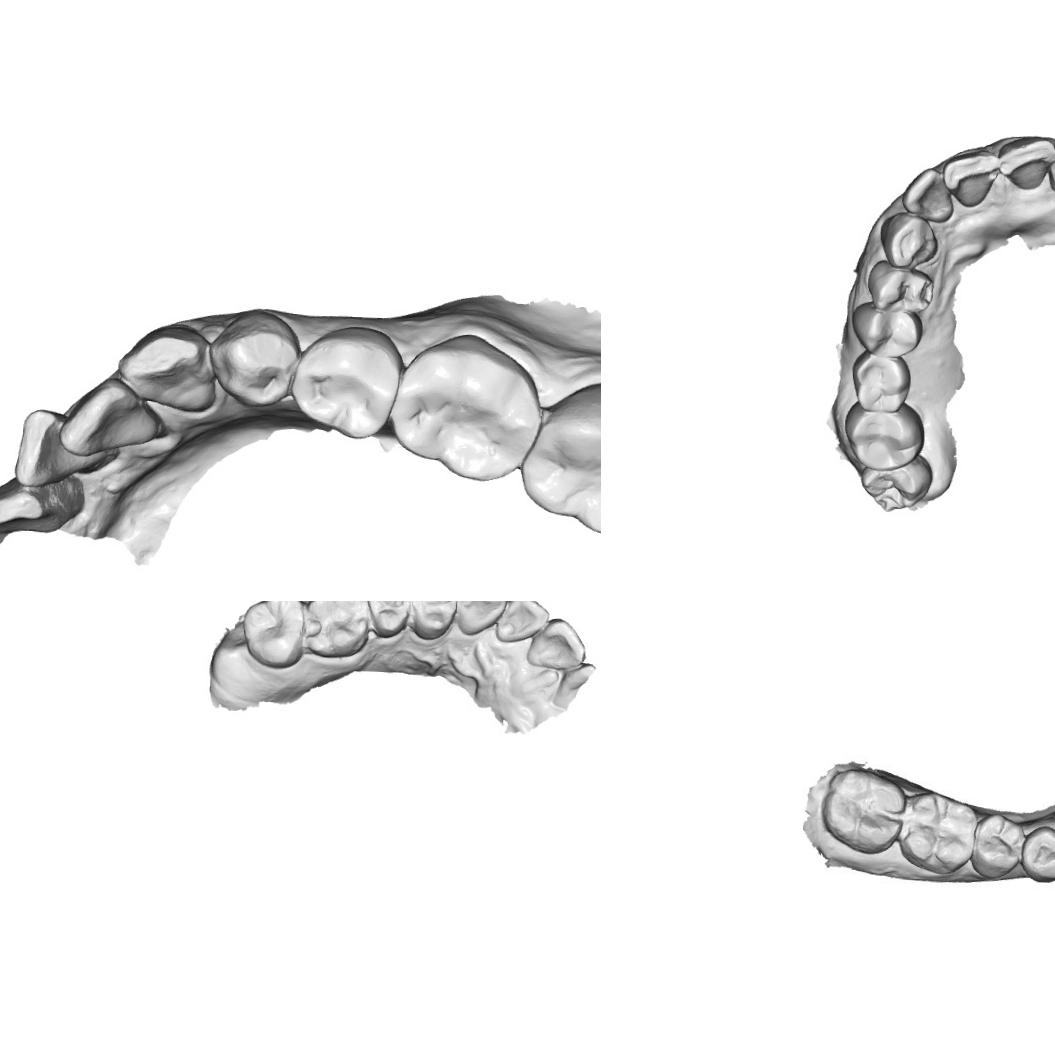canine: (114, 320, 219, 416), (877, 210, 940, 270), (453, 601, 508, 639)
incisor: (58, 374, 168, 461), (10, 407, 117, 491), (0, 471, 87, 540), (941, 149, 1002, 210), (524, 615, 588, 673), (996, 134, 1055, 191), (899, 166, 956, 224), (493, 601, 552, 646)
molar: (384, 329, 546, 484), (514, 377, 601, 539), (818, 764, 909, 855), (898, 788, 978, 878), (840, 401, 927, 475), (856, 452, 934, 514), (239, 601, 306, 670), (302, 601, 370, 660), (849, 350, 910, 414)
premolar: (285, 322, 404, 442), (206, 306, 304, 412), (847, 302, 924, 360), (865, 258, 936, 316), (970, 810, 1028, 880), (1018, 824, 1055, 886), (410, 601, 459, 643), (365, 601, 411, 640)
